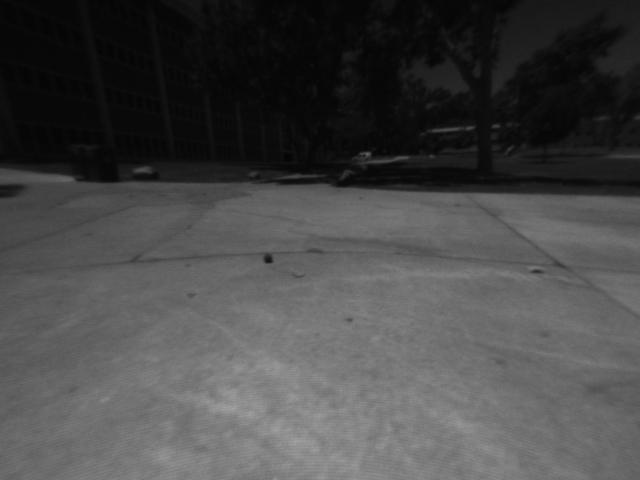dogtoy: (260, 246, 280, 266)
